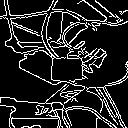cube: (48, 53, 89, 86)
